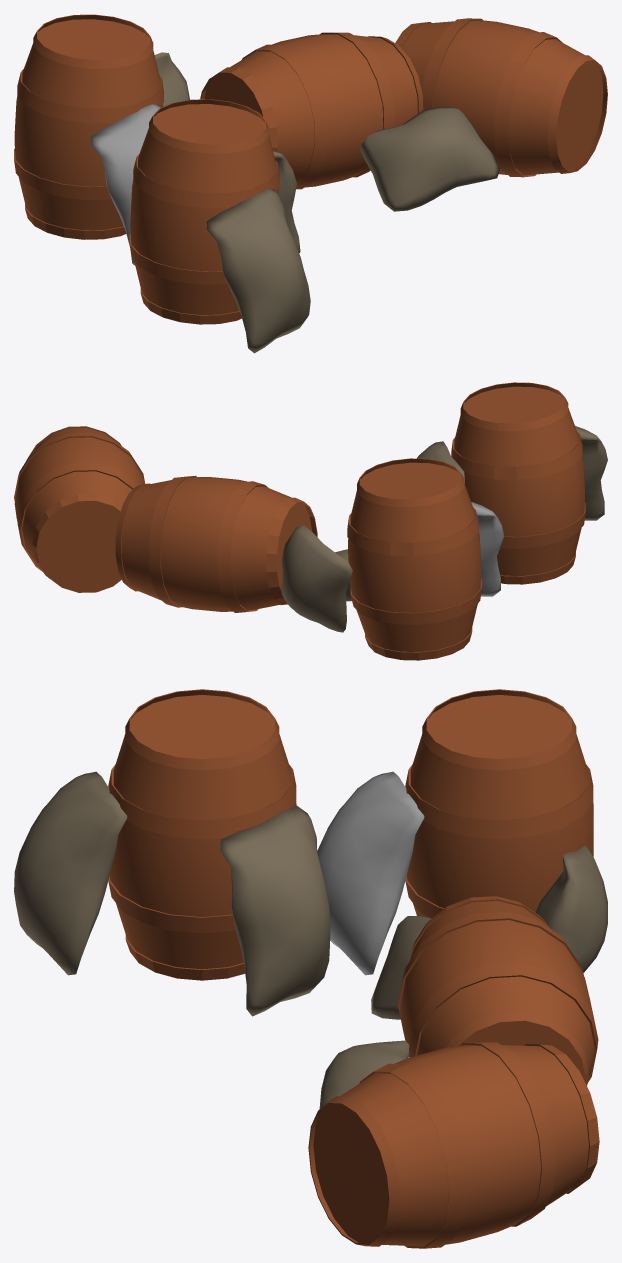
Rendered from mutongdui2.FBX.
The picture shows the model from 3 angles, top to bottom: view 1: azimuth 30°, elevation 25°; view 2: azimuth 150°, elevation 25°; view 3: azimuth 270°, elevation 25°; orthographic projection. The views are drawn at different scales.
Parts seen in each view (by area): view 1: c145, c148, c141, c142, c146, c140, c06, c147, c144; view 2: c148, c142, c145, c141, c147, c146, c06, c144; view 3: c141, c145, c148, c142, c144, c146, c06, c147, c140, c143.
Part boxes in pixels (box(x1,y1,x2,y2)): c145: box(129, 99, 279, 324); c148: box(14, 14, 163, 239); c141: box(395, 18, 607, 177); c142: box(200, 32, 423, 189); c146: box(206, 189, 310, 353); c140: box(359, 107, 499, 211); c06: box(91, 104, 160, 265); c147: box(154, 52, 189, 106); c144: box(273, 151, 300, 253); c148: box(347, 458, 481, 660); c142: box(115, 475, 317, 612); c145: box(451, 382, 585, 584); c141: box(14, 426, 145, 592); c147: box(281, 525, 352, 632); c146: box(575, 426, 607, 520); c06: box(471, 502, 503, 596); c144: box(417, 441, 464, 483); c141: box(308, 1041, 599, 1248); c145: box(108, 689, 296, 980); c148: box(405, 689, 593, 918); c142: box(398, 896, 598, 1085); c144: box(220, 806, 330, 1016); c146: box(14, 771, 127, 975); c06: box(317, 771, 424, 975); c147: box(535, 845, 607, 972); c140: box(319, 1040, 409, 1108); c143: box(371, 915, 431, 1019).
Size of the model in its own units: 2.12 by 0.7877 by 1.57.
